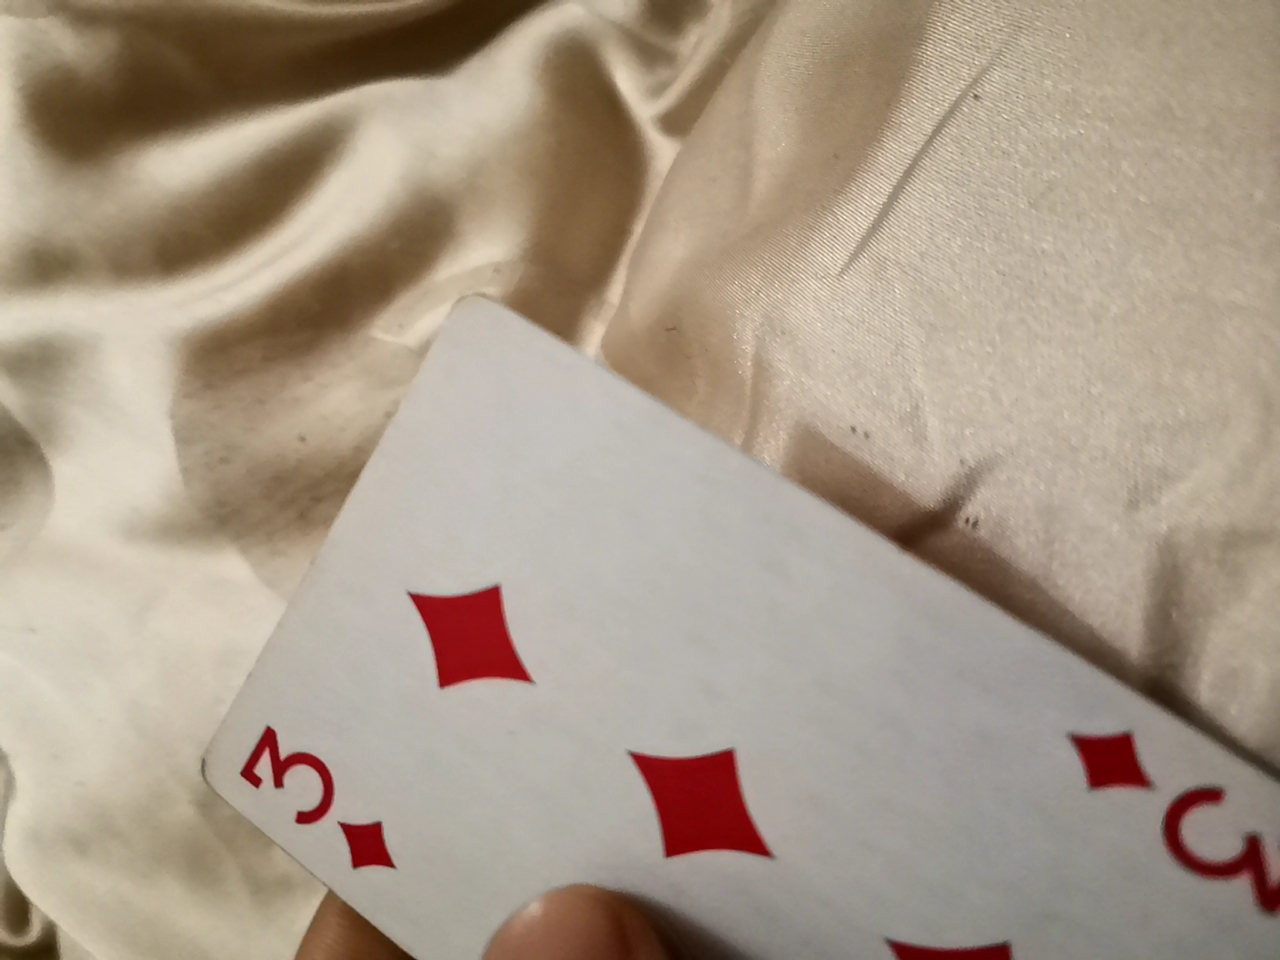fk 3: (208, 234, 1262, 950)
